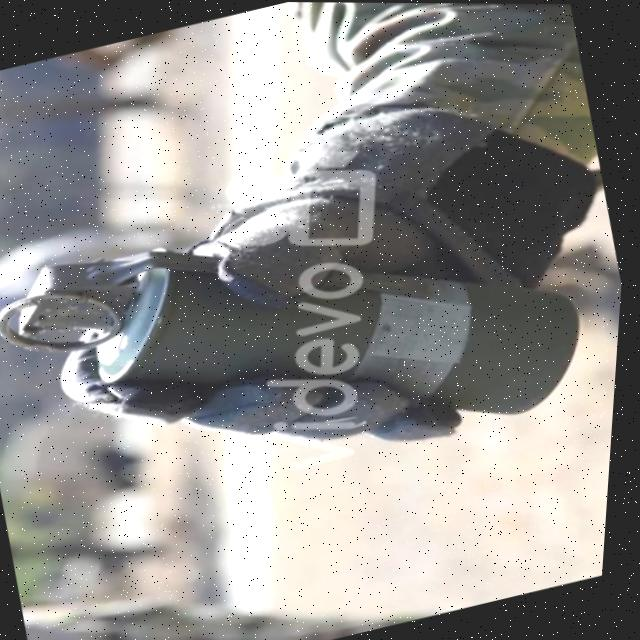grenade: (0, 111, 634, 558)
